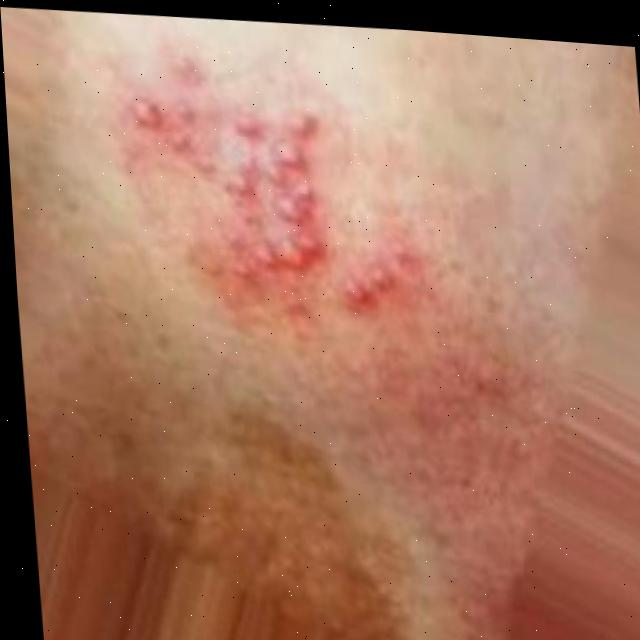Shingles: (120, 85, 324, 287), (338, 248, 421, 317)
